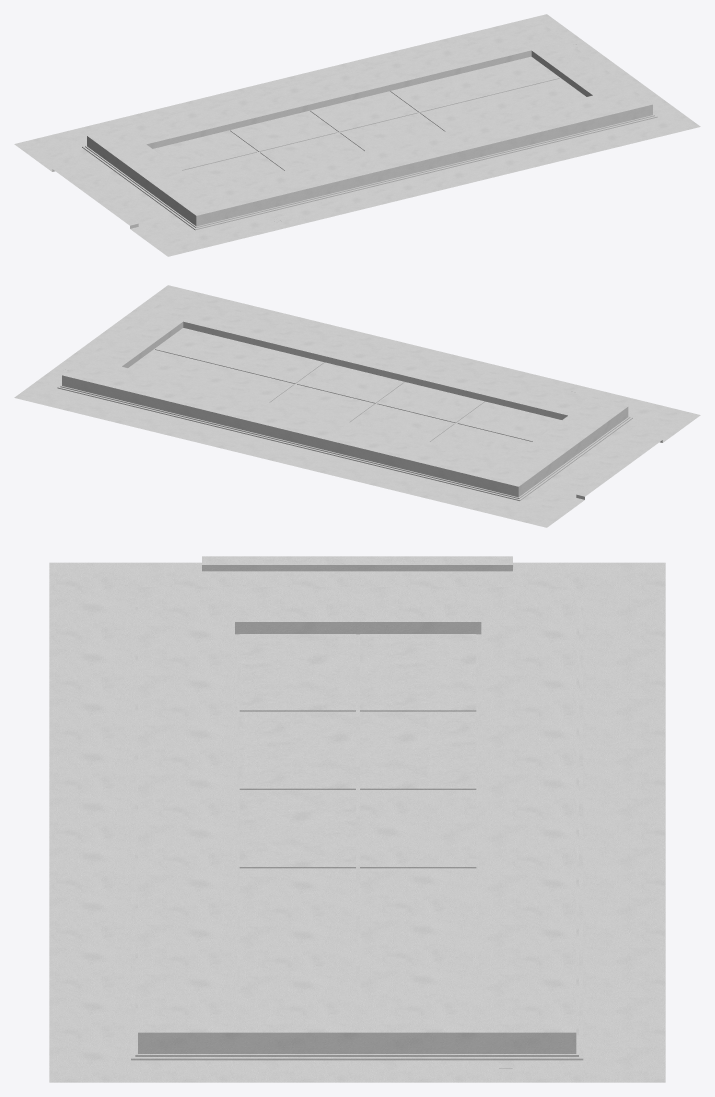
File: Ceeling.FBX
3 renders of one model, top to bottom at view 1: azimuth 30°, elevation 25°; view 2: azimuth 150°, elevation 25°; view 3: azimuth 270°, elevation 25°, orthographic. The views are drawn at different scales.
Visible parts, largest first — view 1: Ceeling; view 2: Ceeling; view 3: Ceeling.
Boxes of the visible parts, bbox=[...] form: Ceeling: bbox=[14, 14, 700, 256]; Ceeling: bbox=[14, 285, 700, 527]; Ceeling: bbox=[49, 556, 665, 1082].
Bounding box in the file's own units: 353 × 8.2 × 177.
1 material, 1 textured.
